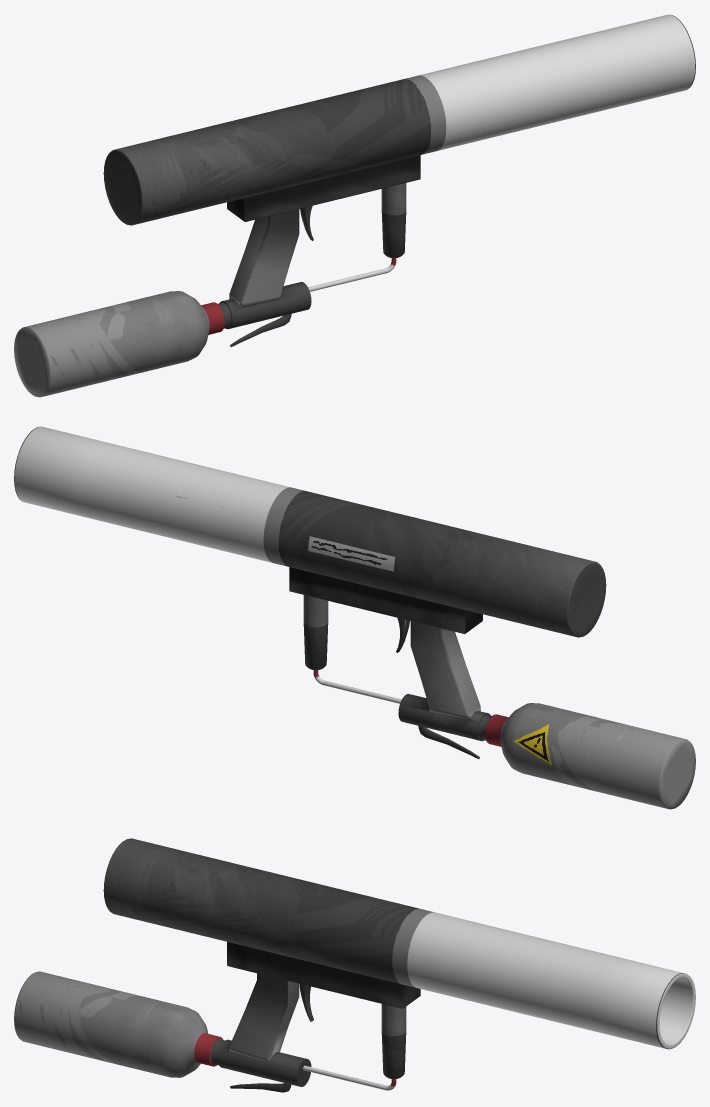
The model's file is cannon.fbx.
3 renders of one model, top to bottom at view 1: azimuth 30°, elevation 25°; view 2: azimuth 150°, elevation 25°; view 3: azimuth 330°, elevation 25°, orthographic.
Parts seen in each view (by area): view 1: Cylinder; view 2: Cylinder; view 3: Cylinder.
Boxes of the visible parts, box(x1,y1,x2,y2) form: Cylinder: box(14, 14, 695, 397); Cylinder: box(14, 426, 695, 809); Cylinder: box(14, 838, 695, 1092).
Bounding box in the file's own units: 900 × 295 × 94.5.
